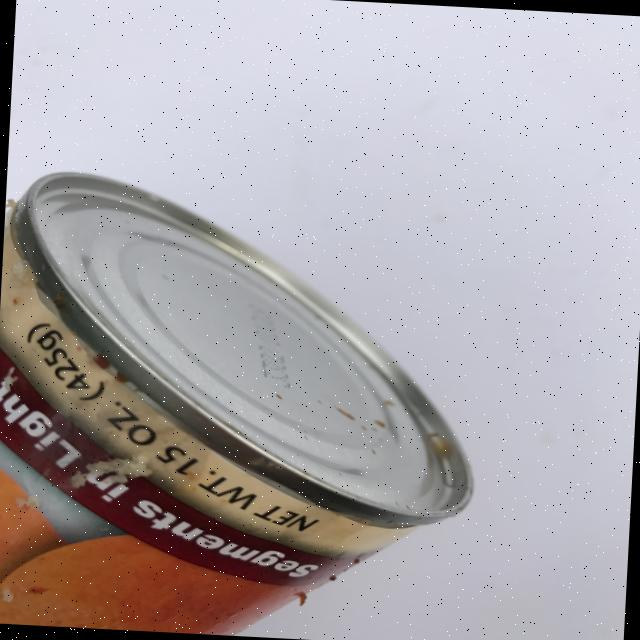metal: (0, 166, 490, 640)
